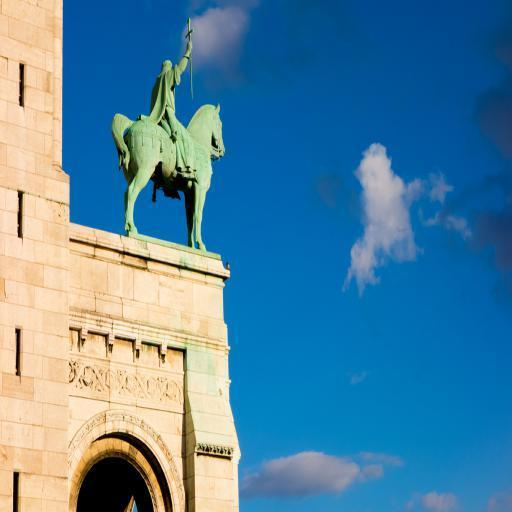horse: (111, 100, 226, 254)
